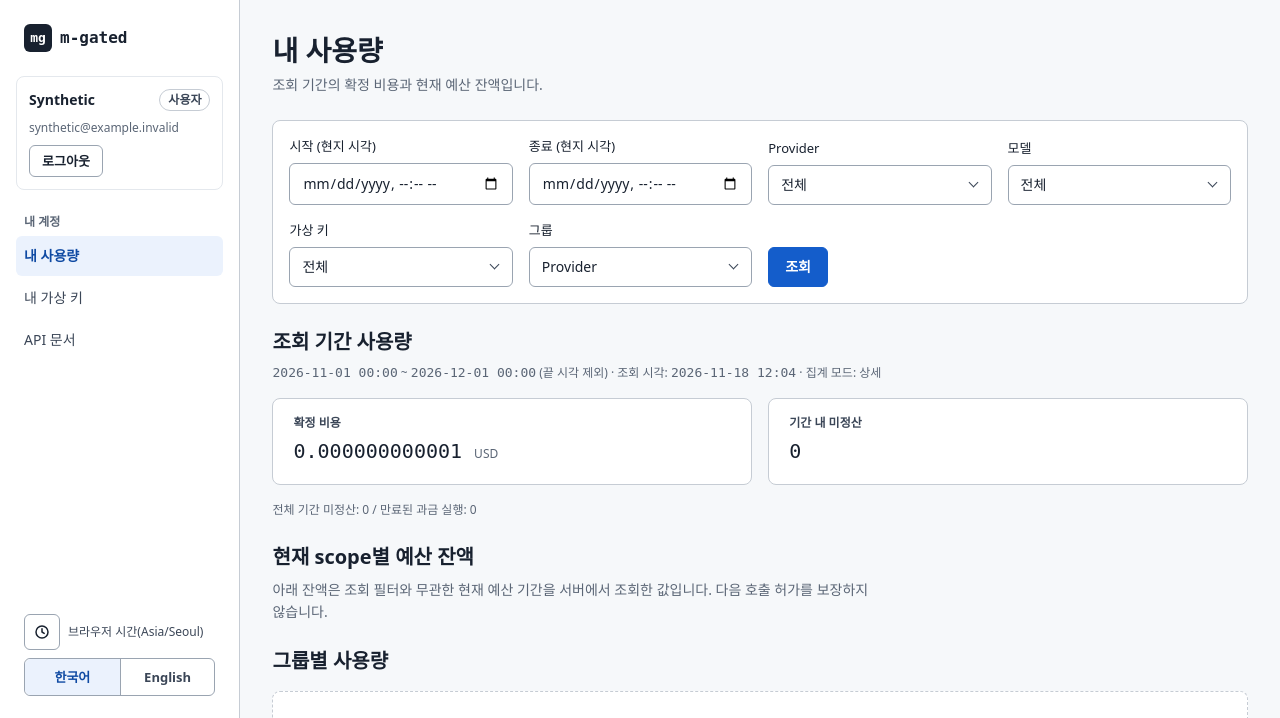
clock_toggle_switches_every_shown_time_between_browser_time_and_utc_and_only_remembers_utc
The width and height of the screenshot is (1280, 718).
Check: the heading "조회 기간 사용량" is shown, box [272,328,412,355]
Check: the text "브라우저 시간(Asia/Seoul)" is shown, box [68,623,203,641]
Click the button named "UTC로 보기" at (42, 632), box [24,614,60,650]
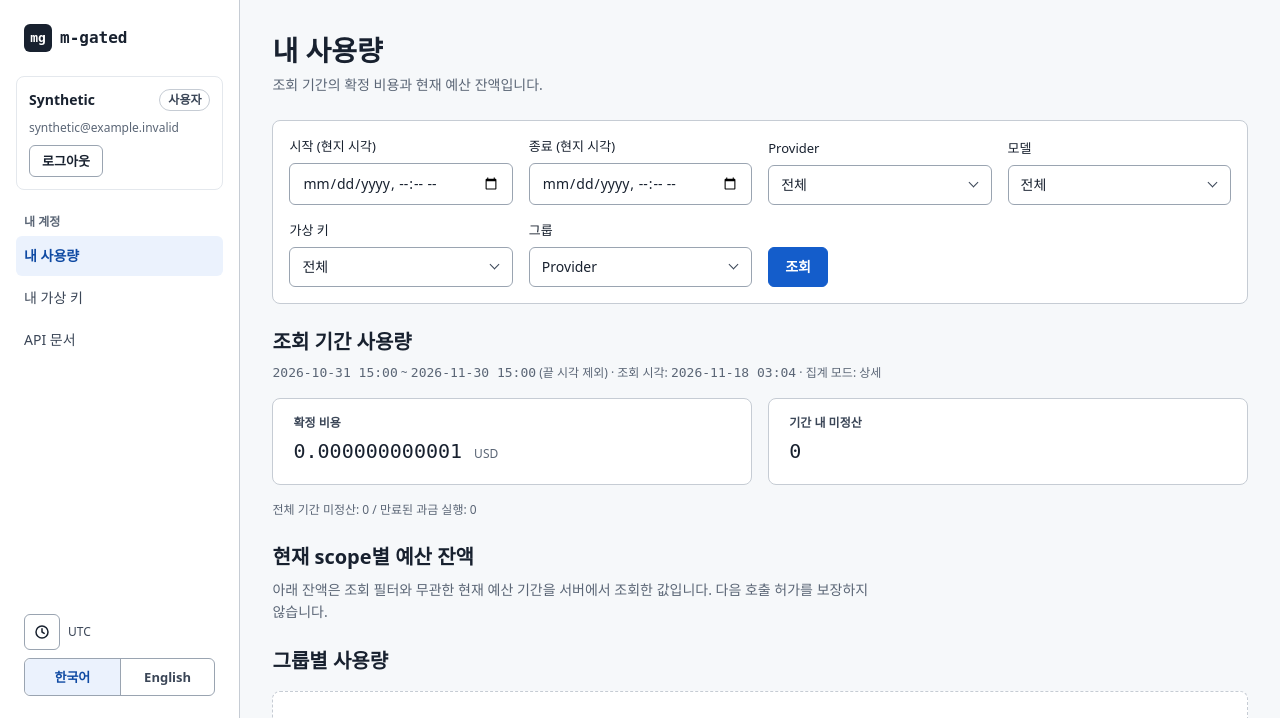
Check: the text "UTC" is shown, box [68,623,91,641]
Check: the text "2026-10-31 15:00" is shown, box [272,365,398,380]
Check: the text "2026-11-18 03:04" is shown, box [671,365,796,380]
Click the button named "브라우저 시간으로 보기" at (42, 632), box [24,614,60,650]
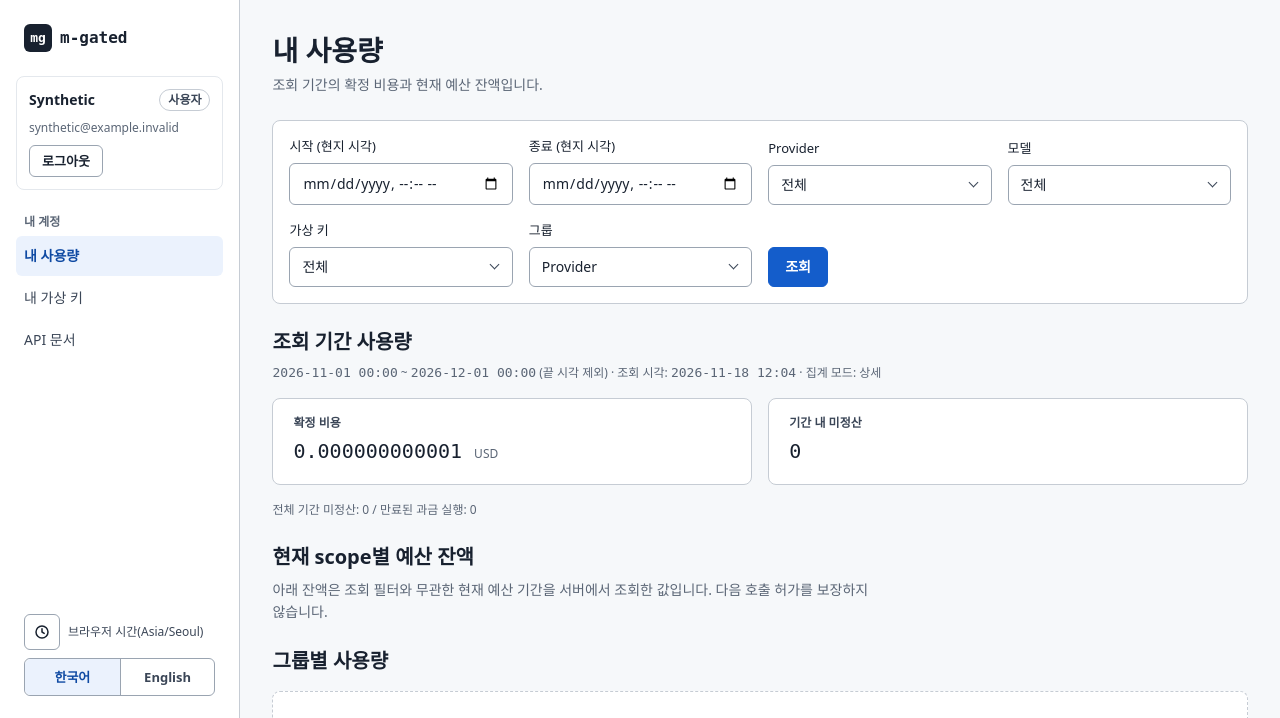
Check: the text "브라우저 시간(Asia/Seoul)" is shown, box [68,623,203,641]
Check: the text "2026-11-01 00:00" is shown, box [272,365,398,380]
